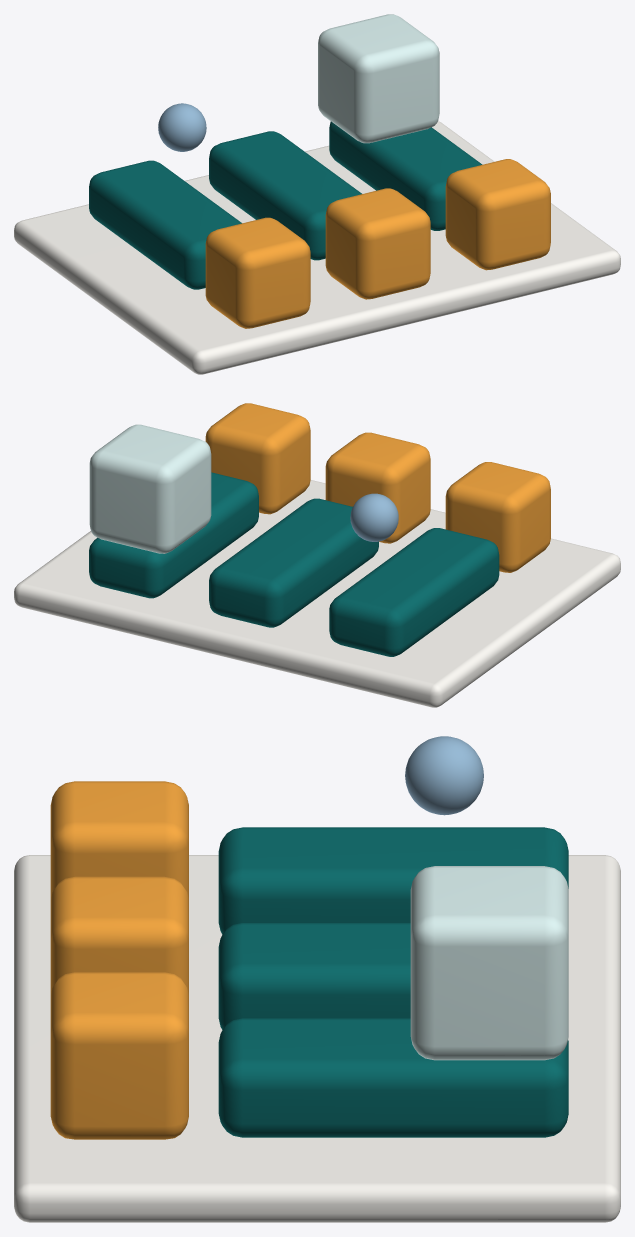
Rendered from algebra-kit.glb.
3 renders of one model, top to bottom at view 1: azimuth 30°, elevation 25°; view 2: azimuth 150°, elevation 25°; view 3: azimuth 270°, elevation 25°, orthographic. The views are drawn at different scales.
Visible parts, largest first — view 1: base, comparison_cube, algebra_rod_0, algebra_rod_1, unit_1, unit_0, unit_2, algebra_rod_2, insight; view 2: base, algebra_rod_0, comparison_cube, algebra_rod_1, unit_0, algebra_rod_2, unit_2, unit_1, insight; view 3: base, algebra_rod_2, comparison_cube, algebra_rod_0, unit_2, algebra_rod_1, unit_1, unit_0, insight.
Boxes of the visible parts, left/top/right/bottom form: base: left=14, top=121, right=620, bottom=374; comparison_cube: left=318, top=14, right=439, bottom=143; algebra_rod_0: left=89, top=160, right=241, bottom=289; algebra_rod_1: left=209, top=131, right=361, bottom=260; unit_1: left=325, top=188, right=430, bottom=299; unit_0: left=205, top=217, right=310, bottom=328; unit_2: left=445, top=159, right=550, bottom=270; algebra_rod_2: left=329, top=121, right=482, bottom=230; insight: left=158, top=103, right=206, bottom=151; base: left=14, top=480, right=620, bottom=707; algebra_rod_0: left=329, top=528, right=499, bottom=656; comparison_cube: left=89, top=424, right=211, bottom=553; algebra_rod_1: left=209, top=498, right=378, bottom=627; unit_0: left=445, top=462, right=550, bottom=572; algebra_rod_2: left=89, top=472, right=258, bottom=598; unit_2: left=205, top=403, right=310, bottom=514; unit_1: left=325, top=432, right=430, bottom=543; insight: left=350, top=493, right=398, bottom=541; base: left=14, top=855, right=620, bottom=1222; algebra_rod_2: left=218, top=1018, right=568, bottom=1137; comparison_cube: left=410, top=866, right=568, bottom=1060; algebra_rod_0: left=218, top=827, right=568, bottom=934; unit_2: left=50, top=972, right=188, bottom=1139; algebra_rod_1: left=218, top=923, right=410, bottom=1029; unit_1: left=50, top=876, right=188, bottom=995; unit_0: left=50, top=781, right=188, bottom=899; insight: left=405, top=736, right=483, bottom=815.
Bounding box in the file's own units: 2.85 × 1.01 × 2.15.
